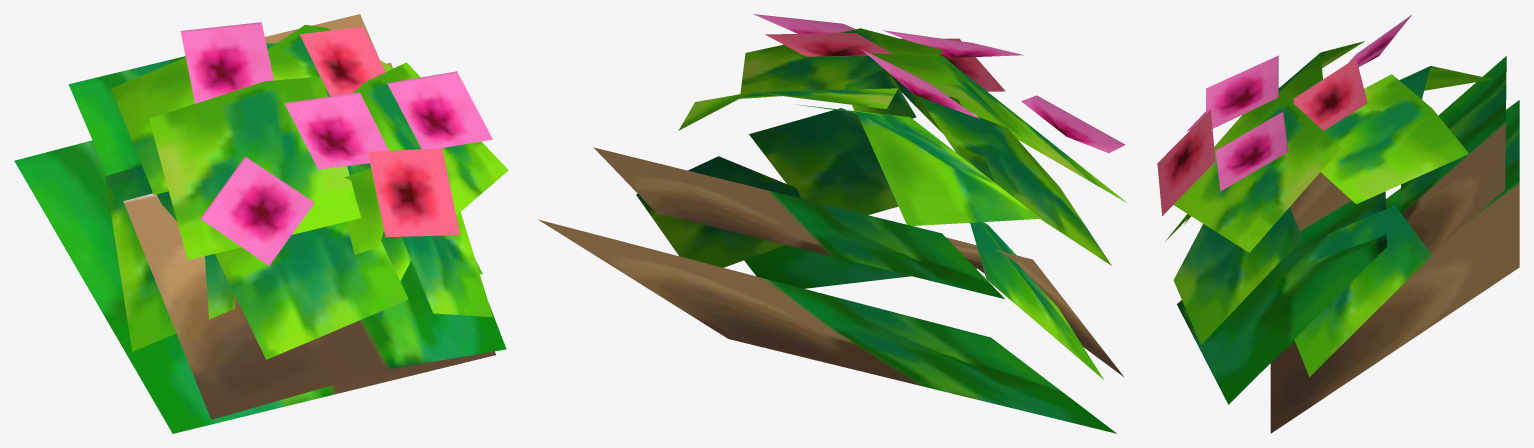
File: fg_bushB_2_pi.dae
The picture shows the model from 3 angles, left to right: view 1: azimuth 30°, elevation 25°; view 2: azimuth 150°, elevation 25°; view 3: azimuth 270°, elevation 25°; orthographic projection. The views are drawn at different scales.
Visible parts, largest first — view 1: fg_bushB_2_pi; view 2: fg_bushB_2_pi; view 3: fg_bushB_2_pi.
Part boxes in pixels (box(x1,y1,x2,y2)): fg_bushB_2_pi: box(14, 14, 508, 433); fg_bushB_2_pi: box(538, 14, 1126, 433); fg_bushB_2_pi: box(1157, 15, 1519, 433).
Bounding box in the file's own units: 43.24 × 36.09 × 38.13.
1 material, 1 textured.
